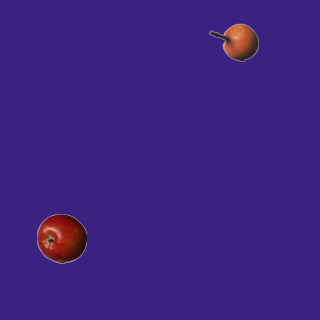Apple Braeburn: (36, 213, 86, 263)
Granadilla: (208, 17, 258, 67)
